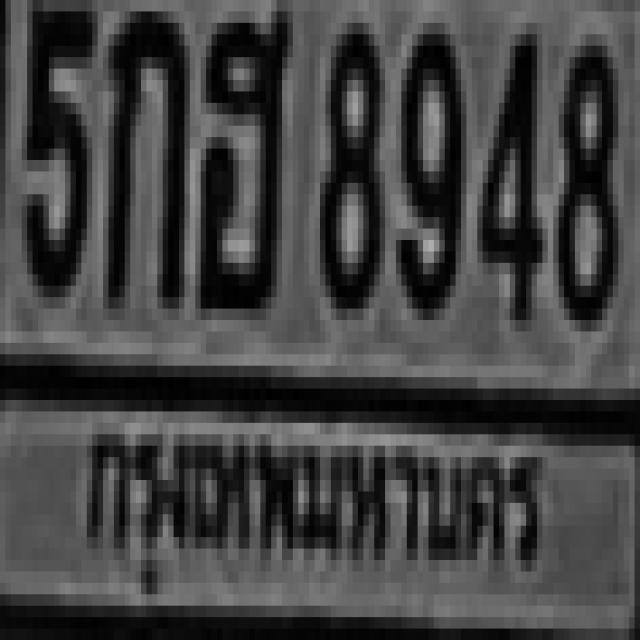10GorGai: (103, 0, 184, 297)
4: (477, 17, 537, 314)
5: (22, 0, 86, 286)
53HorNokHook: (195, 0, 288, 309)
8: (553, 34, 613, 320), (317, 12, 377, 297)
9: (394, 12, 458, 308)
Bangkok: (69, 388, 550, 622)
